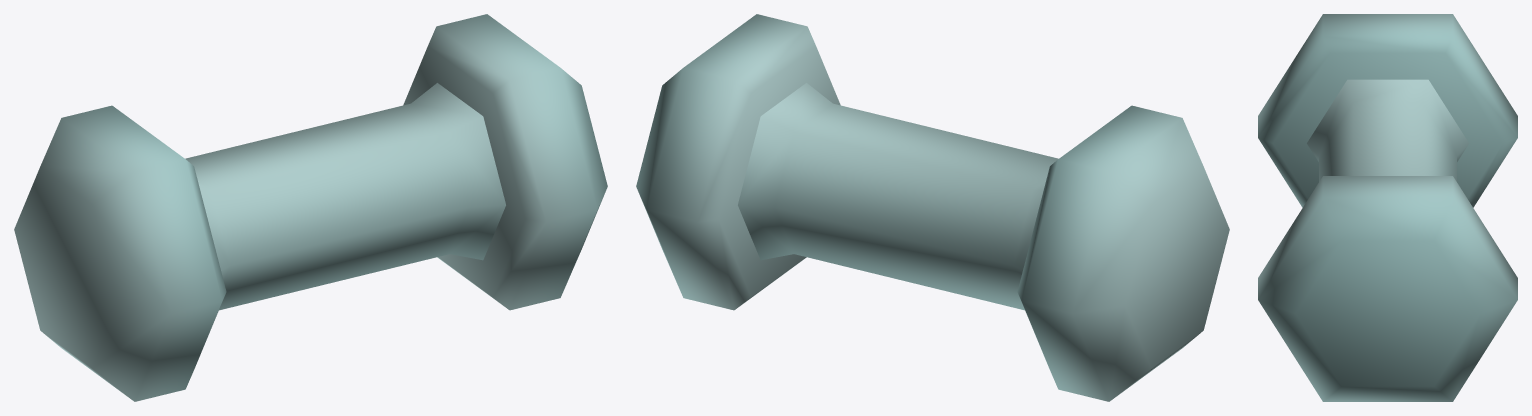
Rendered from fitness-dumbell.glb.
3 renders of one model, left to right at view 1: azimuth 30°, elevation 25°; view 2: azimuth 150°, elevation 25°; view 3: azimuth 270°, elevation 25°, orthographic. The views are drawn at different scales.
Parts seen in each view (by area): view 1: fitness-dumbell; view 2: fitness-dumbell; view 3: fitness-dumbell.
Boxes of the visible parts, <box> form: fitness-dumbell: <box>14,14,607,401</box>; fitness-dumbell: <box>636,14,1229,401</box>; fitness-dumbell: <box>1258,14,1517,401</box>.
Size of the model in its own units: 0.3234 by 0.1455 by 0.168.
